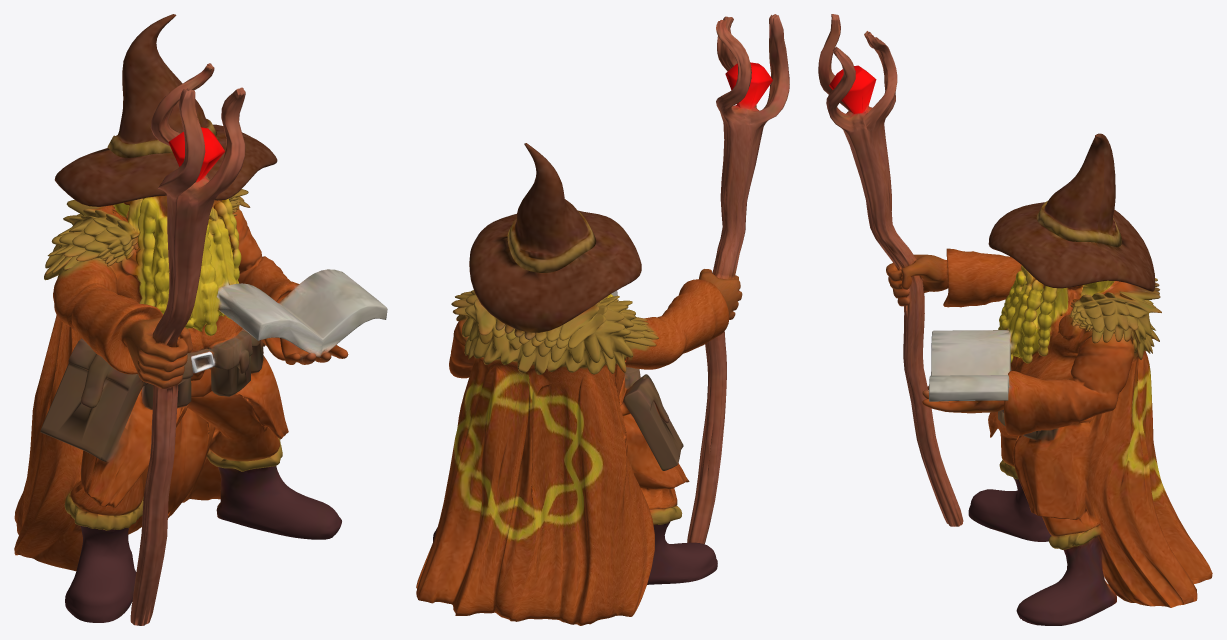
The model's file is MZ4250 - Aurinax - Male Dwarf.glb.
The picture shows the model from 3 angles, left to right: view 1: azimuth 30°, elevation 25°; view 2: azimuth 150°, elevation 25°; view 3: azimuth 270°, elevation 25°; orthographic projection. The views are drawn at different scales.
Visible parts, largest first — view 1: default; view 2: default; view 3: default.
Part boxes in pixels (x1,y1,x2,y2): default: (14, 14, 387, 625); default: (416, 14, 789, 625); default: (818, 14, 1212, 625).
Bounding box in the file's own units: 0.7532 × 1.45 × 1.03.
1 material, 1 textured.
